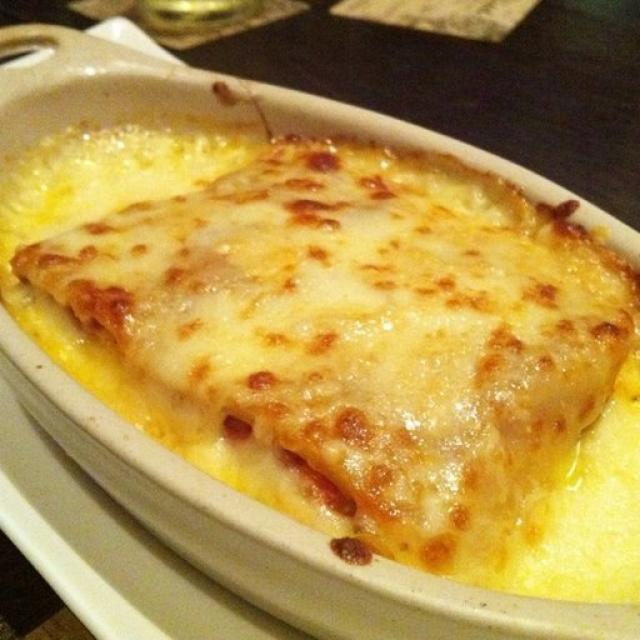Lasagna: (40, 140, 615, 562)
